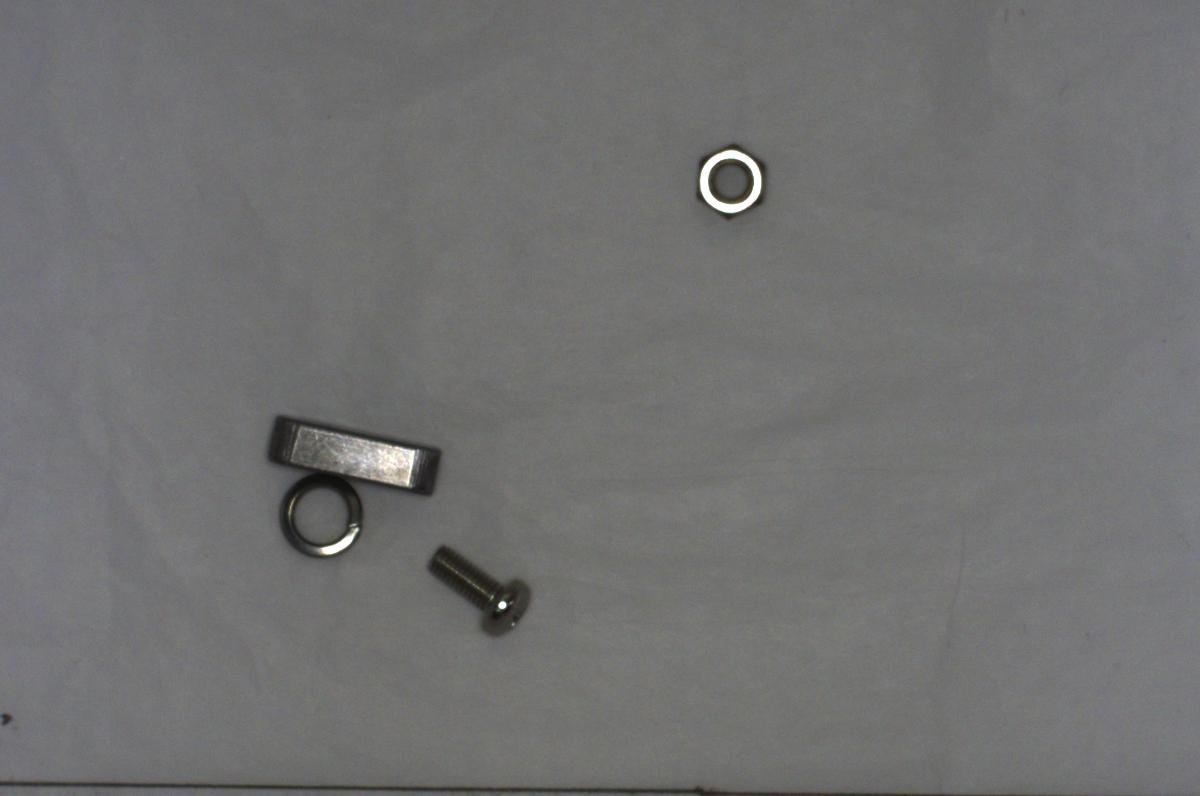Hexagon nut: (685, 133, 774, 228)
Keybar: (260, 409, 444, 495)
Round head screw: (415, 527, 530, 630)
Spring washer: (273, 467, 368, 560)
